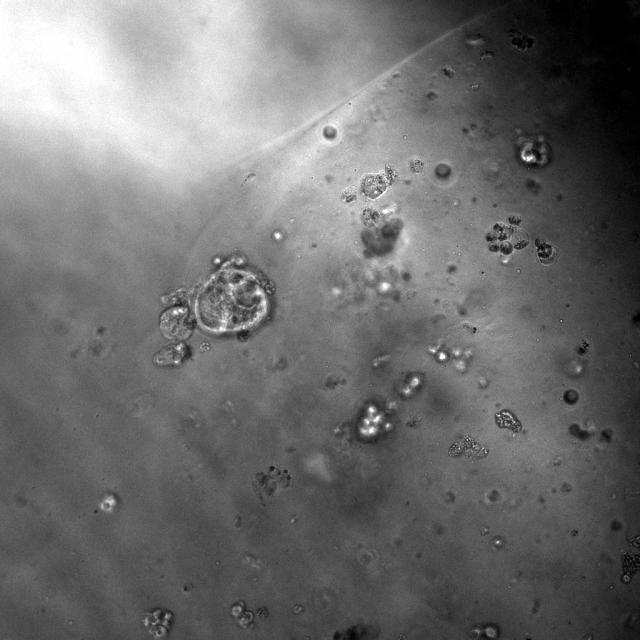organoid: (154, 256, 274, 366), (353, 371, 424, 442), (361, 203, 403, 255), (486, 214, 528, 255), (428, 340, 474, 373), (361, 164, 399, 200), (516, 134, 552, 167), (254, 465, 291, 495), (142, 608, 172, 639), (448, 436, 488, 458), (621, 534, 639, 581), (494, 409, 521, 432), (231, 601, 253, 629), (534, 239, 556, 264), (512, 34, 534, 50), (569, 423, 589, 439), (562, 388, 579, 405), (341, 186, 357, 203), (434, 163, 451, 178), (576, 339, 590, 356), (322, 125, 336, 139)
